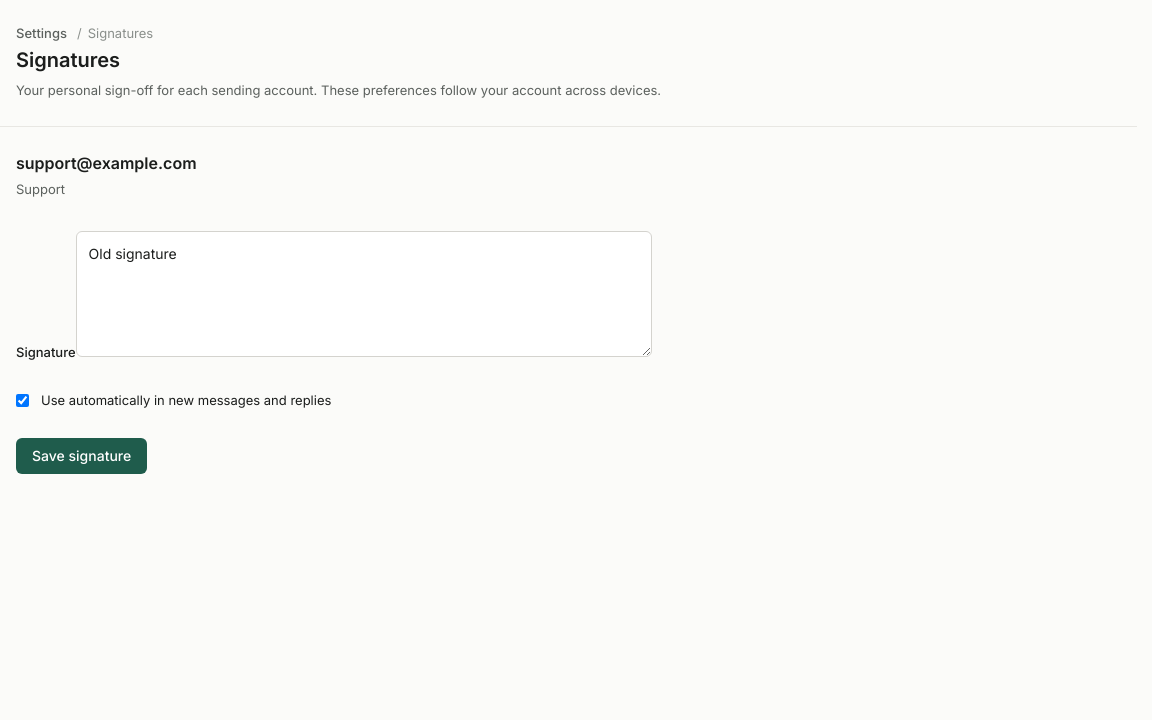
Scenario: signature settings › keeps local text after a conflict and explicitly loads the saved version
This screenshot has width=1152, height=720.
Replace the text in the text box labelled "Signature" with "My unsaved version". click: (364, 294)
box: left=76, top=231, right=652, bottom=357
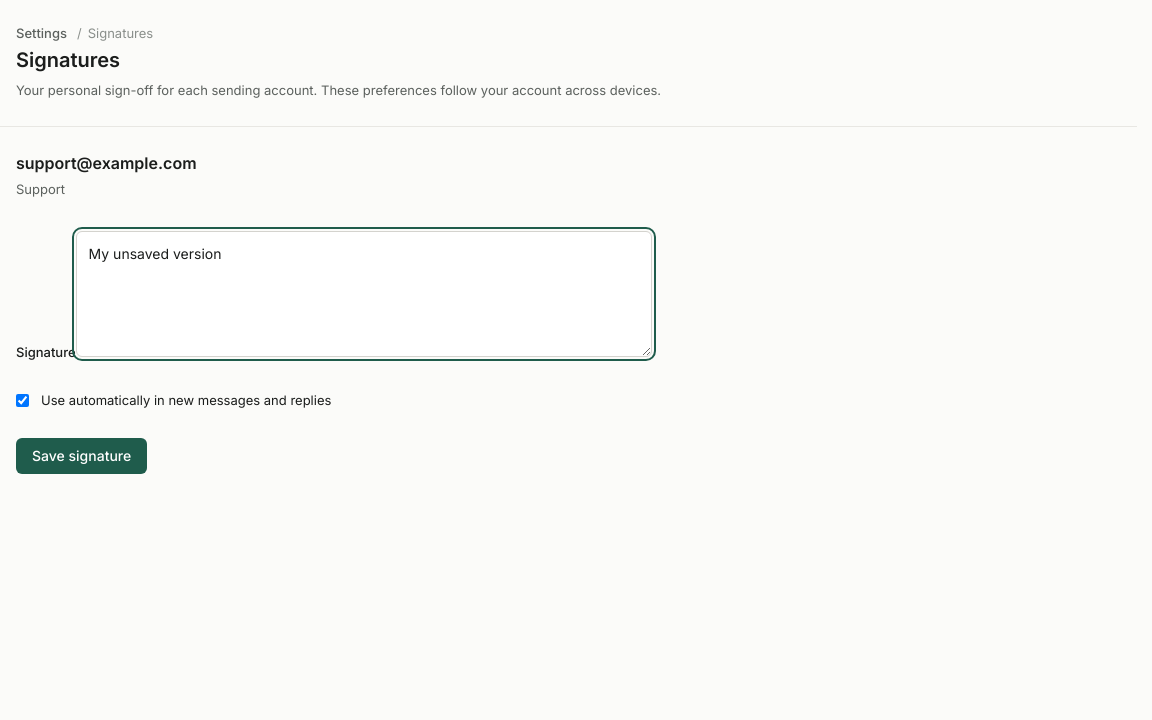
Click the button "Save signature". click: (82, 456)
box: left=16, top=438, right=147, bottom=474
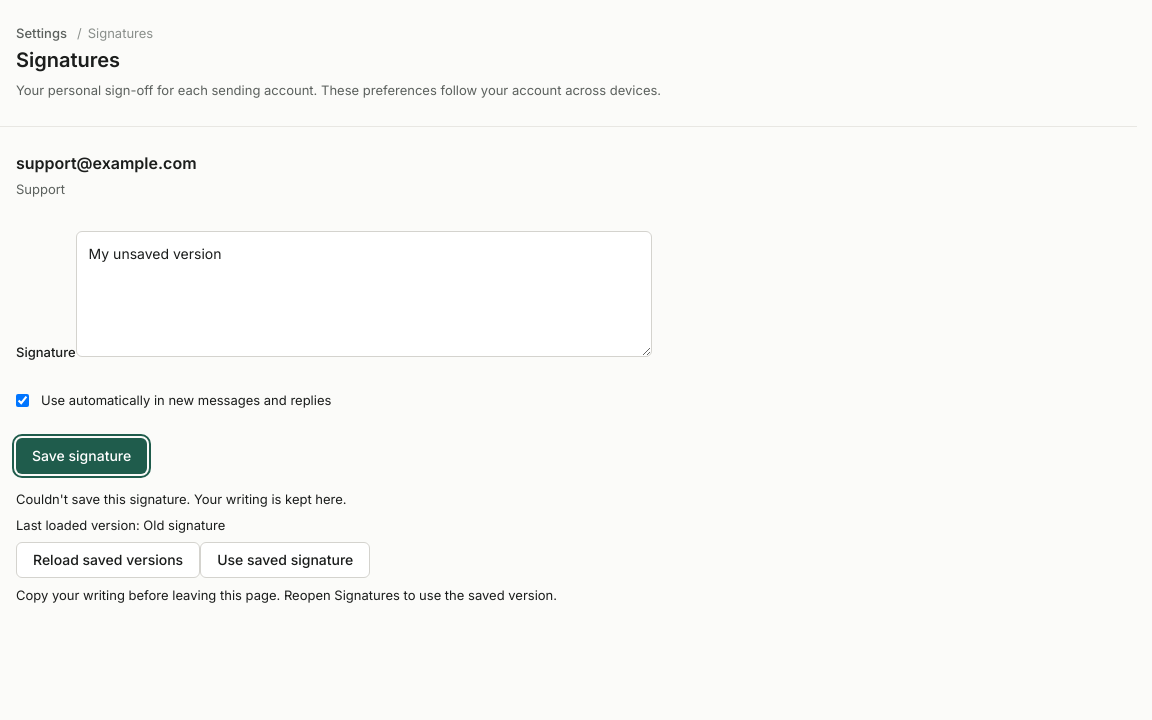
Now the text "Couldn't save this signature. Your writing is kept here." is shown, box left=16, top=491, right=347, bottom=507
Click the button "Reload saved versions". click: (108, 560)
box: left=16, top=542, right=200, bottom=578
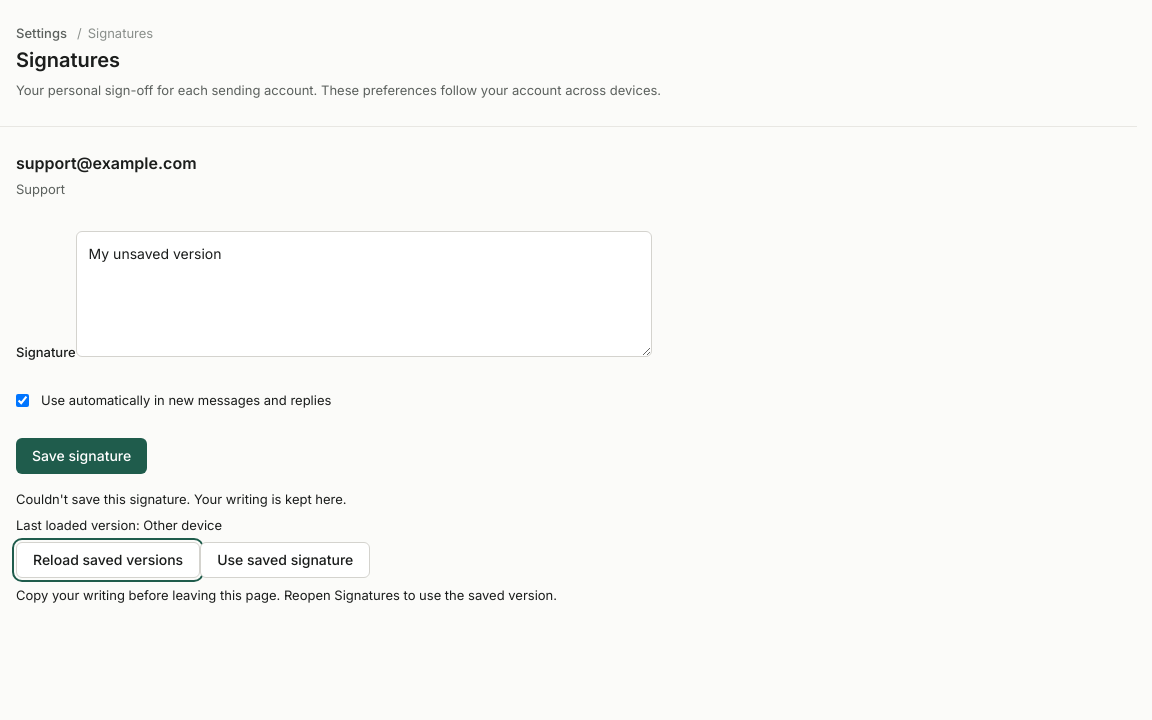
Now the text "Last loaded version: Other device" is shown, box left=16, top=517, right=222, bottom=533
Click the button "Use saved signature". click: (285, 560)
box: left=200, top=542, right=370, bottom=578
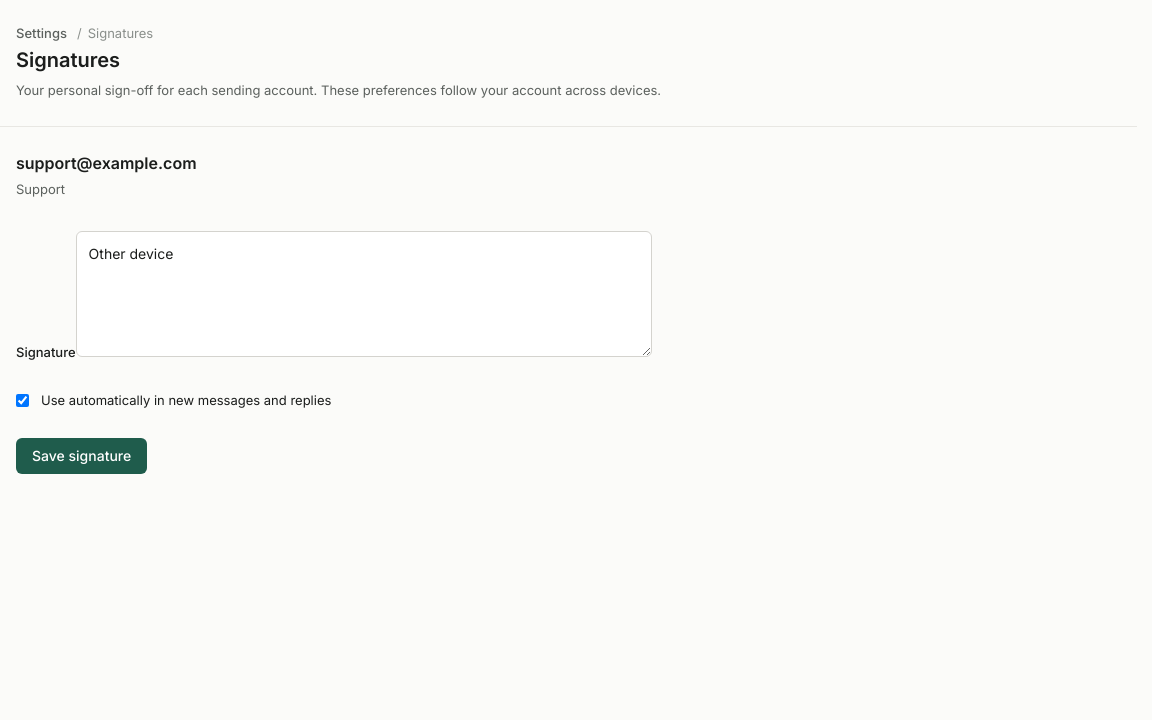
Now the text box labelled "Signature" holds "Other device", box left=76, top=231, right=652, bottom=357
